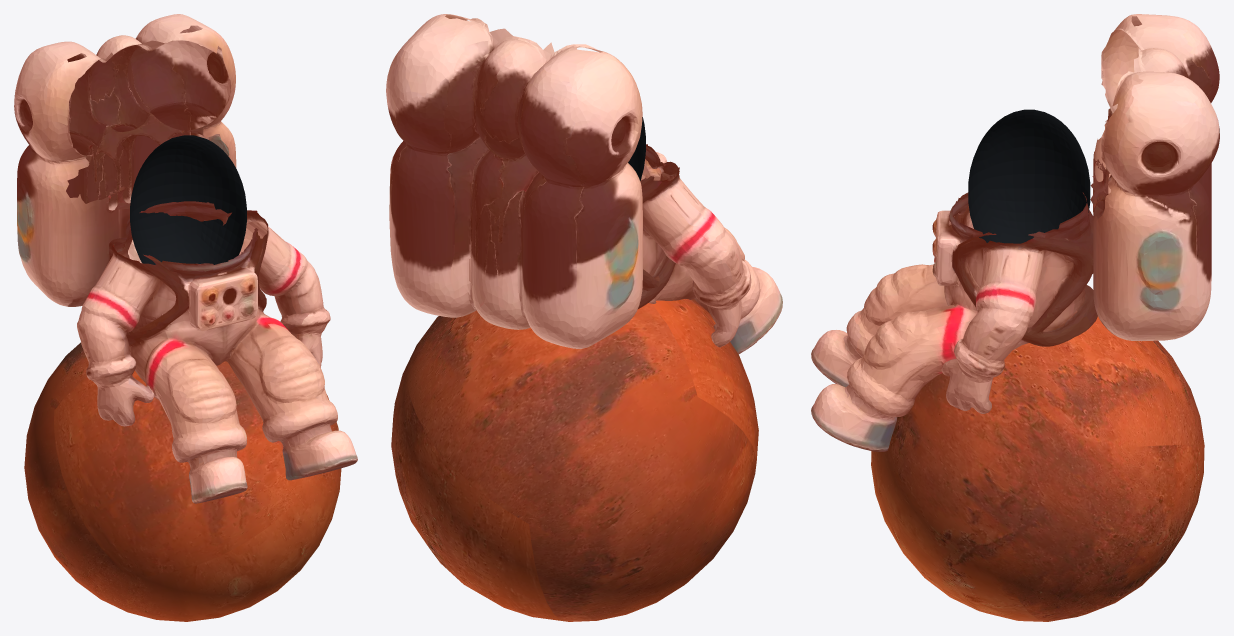
File: astro-mars.glb
The picture shows the model from 3 angles, left to right: view 1: azimuth 30°, elevation 25°; view 2: azimuth 150°, elevation 25°; view 3: azimuth 270°, elevation 25°; orthographic projection. The views are drawn at different scales.
Visible parts, largest first — view 1: Moon_Cube011_1, Moon_Cube011, Moon_Cube011_2; view 2: Moon_Cube011, Moon_Cube011_1; view 3: Moon_Cube011_1, Moon_Cube011, Moon_Cube011_2.
Part boxes in pixels (left/top/right/bottom): Moon_Cube011_1: left=14, top=14, right=357, bottom=503; Moon_Cube011: left=24, top=342, right=341, bottom=621; Moon_Cube011_2: left=130, top=135, right=246, bottom=264; Moon_Cube011: left=391, top=299, right=758, bottom=621; Moon_Cube011_1: left=386, top=14, right=782, bottom=353; Moon_Cube011_1: left=811, top=14, right=1219, bottom=451; Moon_Cube011: left=871, top=316, right=1204, bottom=621; Moon_Cube011_2: left=968, top=109, right=1090, bottom=243.
Bounding box in the file's own units: 1.07 × 1.98 × 1.32.
3 materials, 2 textured.
